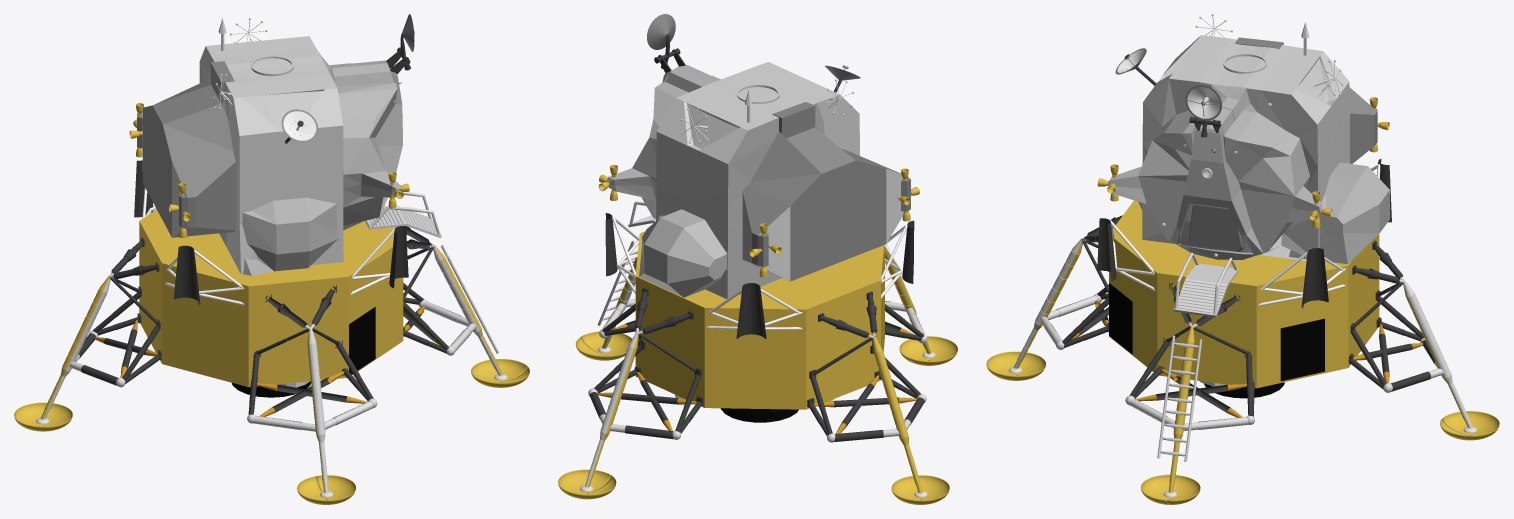
The model's file is ALunarLander_1.fbx.
3 views of the same model, side by side, from view 1: azimuth 30°, elevation 25°; view 2: azimuth 150°, elevation 25°; view 3: azimuth 270°, elevation 25° (orthographic). The views are drawn at different scales.
Parts seen in each view (by area): view 1: pCylinder1, polySurfac, pCube2, pCylinde10, group31 16, group31 19, pPlane1, pCylinder3, group31 10, group31 g7, group75 11, group31 g6 (+10 smaller); view 2: pCylinder1, polySurfac, pCube2, pCylinder9, group31 19, group31 16, group31 g7, group75 10, group31 14, group31 g8, pCylinder3, group13 pC (+10 smaller); view 3: polySurfac, pCylinder1, pCylinder9, group31 19, group31 16, pPlane2, pCube3, pCube27, pCube2, polySurfa1, pPlane1, pCylinder3 (+12 smaller).
Part boxes in pixels (x1,y1,x2,y2): pCylinder1: (139, 205, 403, 387); polySurfac: (199, 36, 403, 274); pCube2: (142, 61, 235, 237); pCylinde10: (242, 197, 338, 275); group31 16: (40, 244, 502, 492); group31 19: (14, 359, 529, 504); pPlane1: (349, 307, 375, 374); pCylinder3: (120, 309, 440, 403); group31 10: (122, 301, 448, 399); group31 g7: (75, 301, 469, 431); group75 11: (173, 245, 200, 305); group31 g6: (69, 323, 476, 429); pCylinder1: (635, 231, 884, 409); polySurfac: (607, 62, 859, 298); pCube2: (742, 102, 903, 281); pCylinder9: (639, 209, 726, 297); group31 19: (558, 331, 957, 504); group31 16: (585, 244, 931, 493); group31 g7: (602, 303, 924, 441); group75 10: (736, 283, 766, 338); group31 14: (602, 304, 923, 434); group31 g8: (612, 320, 915, 433); pCylinder3: (597, 392, 917, 407); group13 pC: (720, 408, 798, 422); polySurfac: (1108, 35, 1349, 260); pCylinder1: (1109, 200, 1379, 388); pCylinder9: (1289, 162, 1389, 264); group31 19: (986, 351, 1499, 504); group31 16: (1013, 238, 1472, 492); pPlane2: (1280, 318, 1324, 381); pCube3: (1174, 263, 1238, 317); pCube27: (1188, 204, 1243, 251); pCube2: (1235, 37, 1377, 163); polySurfa1: (1157, 335, 1202, 461); pPlane1: (1109, 283, 1132, 354); pCylinder3: (1071, 307, 1389, 401).
Size of what is drawn, in the model's own units: 114 by 92.3 by 114.
